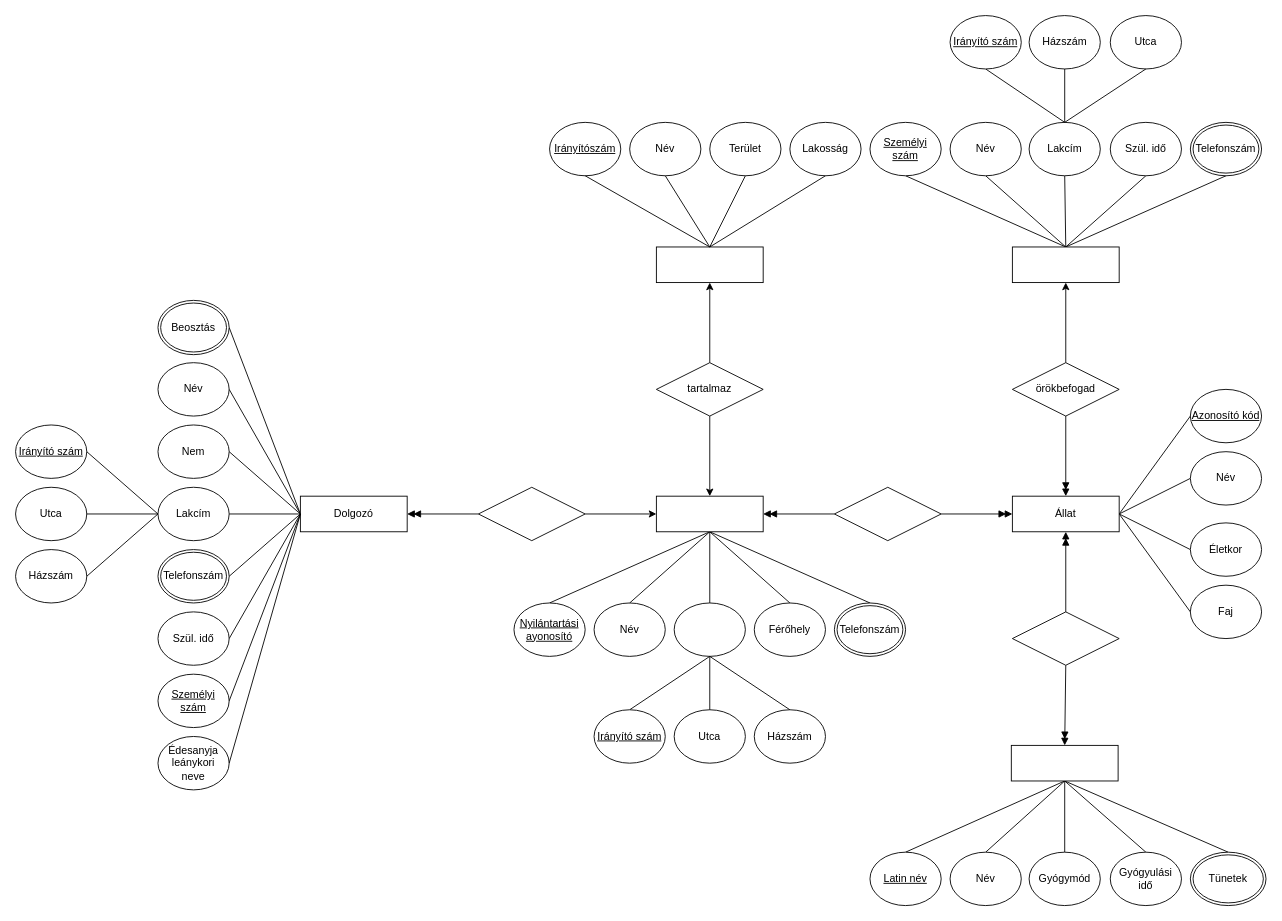
Image size: 1282x921. Some labels were removed from this diagram. The centre of each missing label's shape, as x and y in pixels:
"befogad" goes at (x=887, y=513).
"beteg" goes at (x=1065, y=638).
"Betegség" goes at (x=1064, y=762).
"Cím" goes at (x=709, y=629).
"dolgozik" goes at (x=531, y=513).
"Menhely" goes at (x=709, y=513).
"Város" goes at (x=709, y=264).
"Örökbefogadó" goes at (x=1065, y=264).
